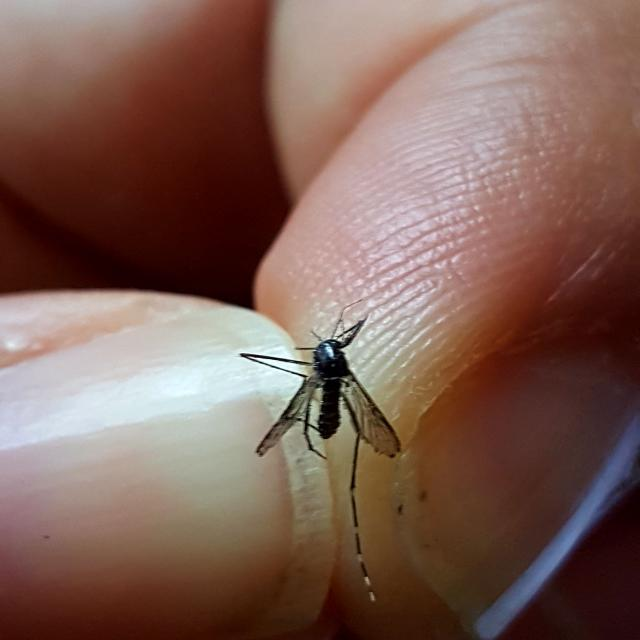albopictus: (233, 290, 406, 568)
